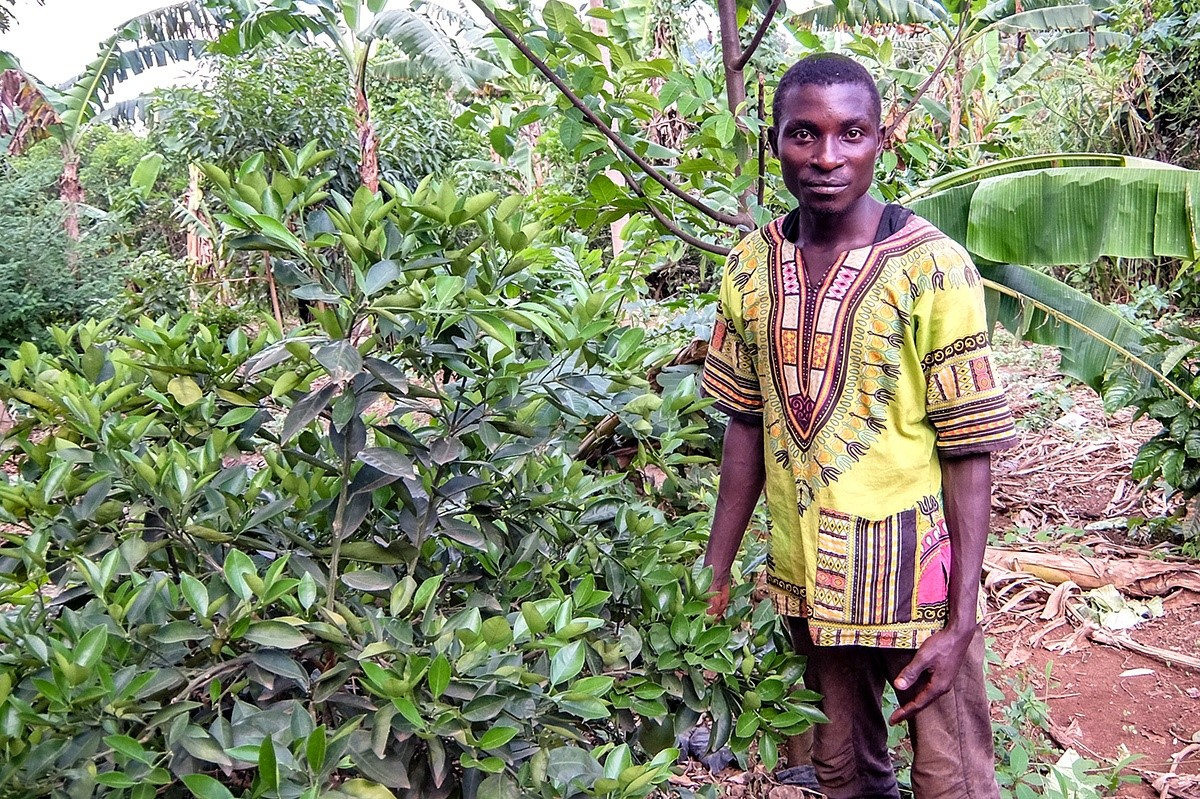face_no_mask: (774, 53, 880, 210)
